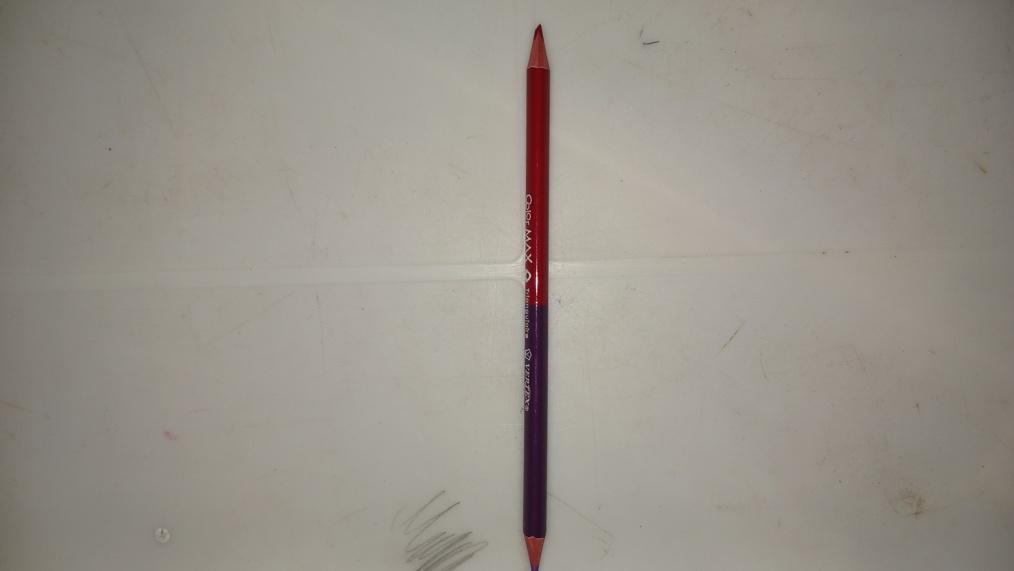Pencil: (518, 26, 553, 571)
